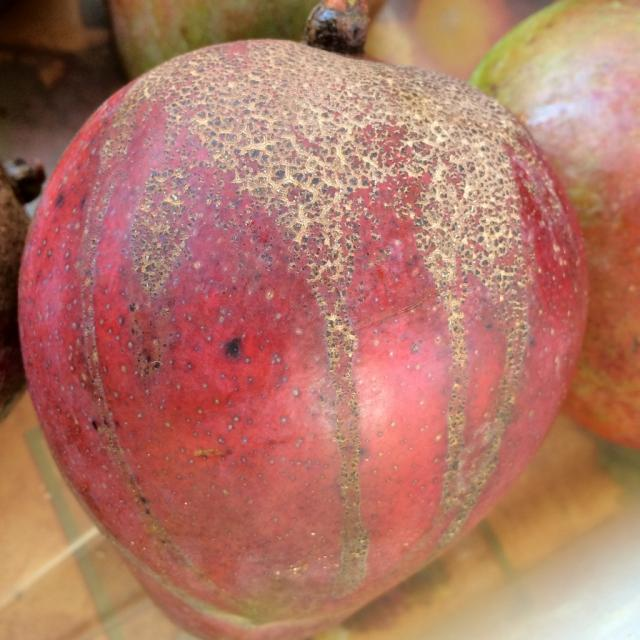Healty Apple: (27, 17, 610, 634), (463, 0, 639, 452), (106, 0, 537, 80)
